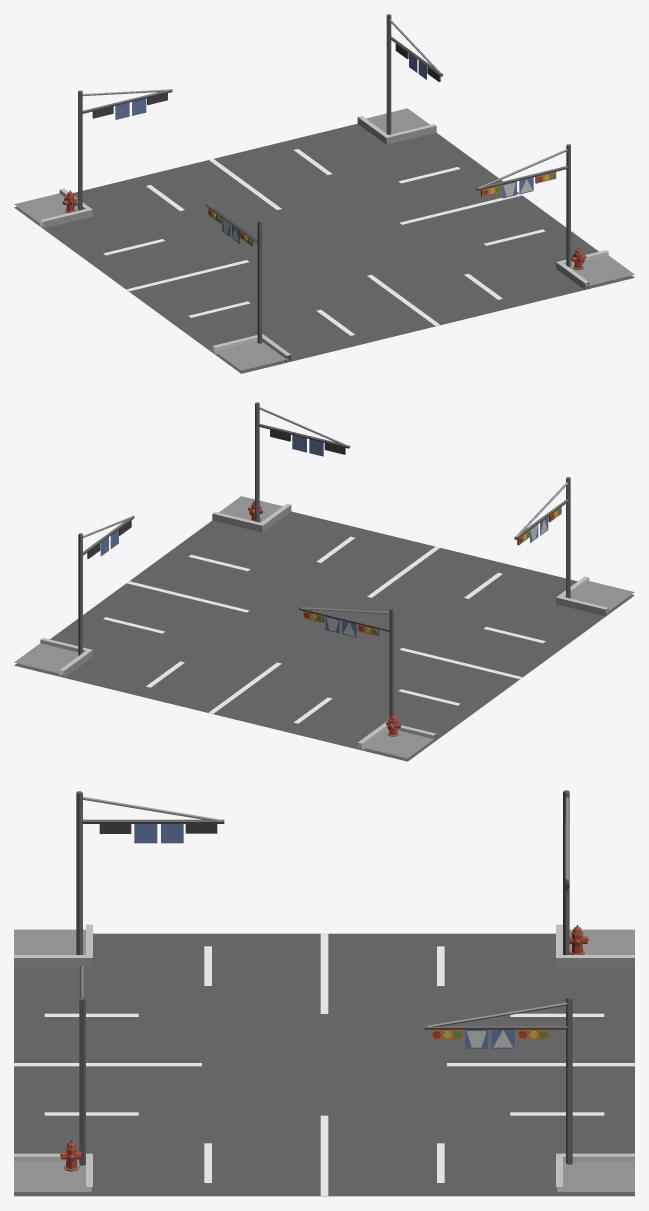
The model's file is road_tile_2x2_004.glb.
The picture shows the model from 3 angles, top to bottom: view 1: azimuth 30°, elevation 25°; view 2: azimuth 150°, elevation 25°; view 3: azimuth 270°, elevation 25°; orthographic projection. The views are drawn at different scales.
Parts seen in each view (by area): view 1: road_tile_2x2_004; view 2: road_tile_2x2_004; view 3: road_tile_2x2_004.
Boxes of the visible parts, x1=… form: road_tile_2x2_004: x1=14, y1=14, x2=634, y2=373; road_tile_2x2_004: x1=14, y1=402, x2=634, y2=761; road_tile_2x2_004: x1=14, y1=790, x2=634, y2=1196.
Size of the model in its own units: 16 by 4.84 by 16.
1 material, 1 textured.
